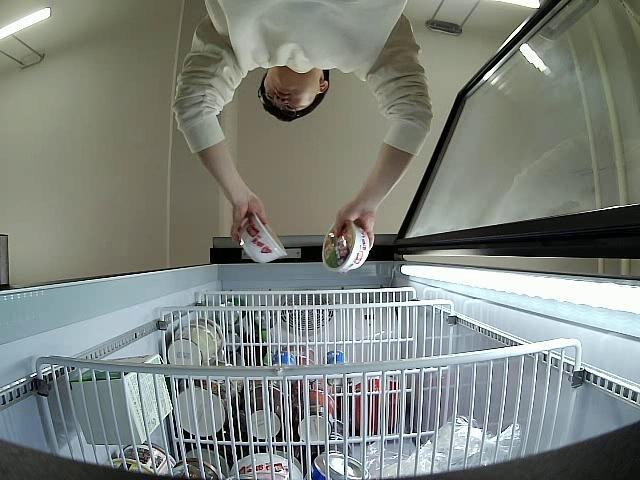09_yukGaeJang: (236, 210, 288, 265), (322, 220, 371, 273)
